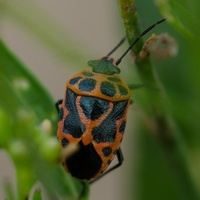insect: (56, 19, 163, 182)
